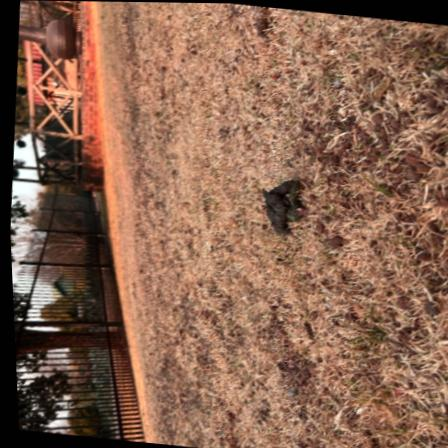dog-poop: (251, 172, 304, 232)
